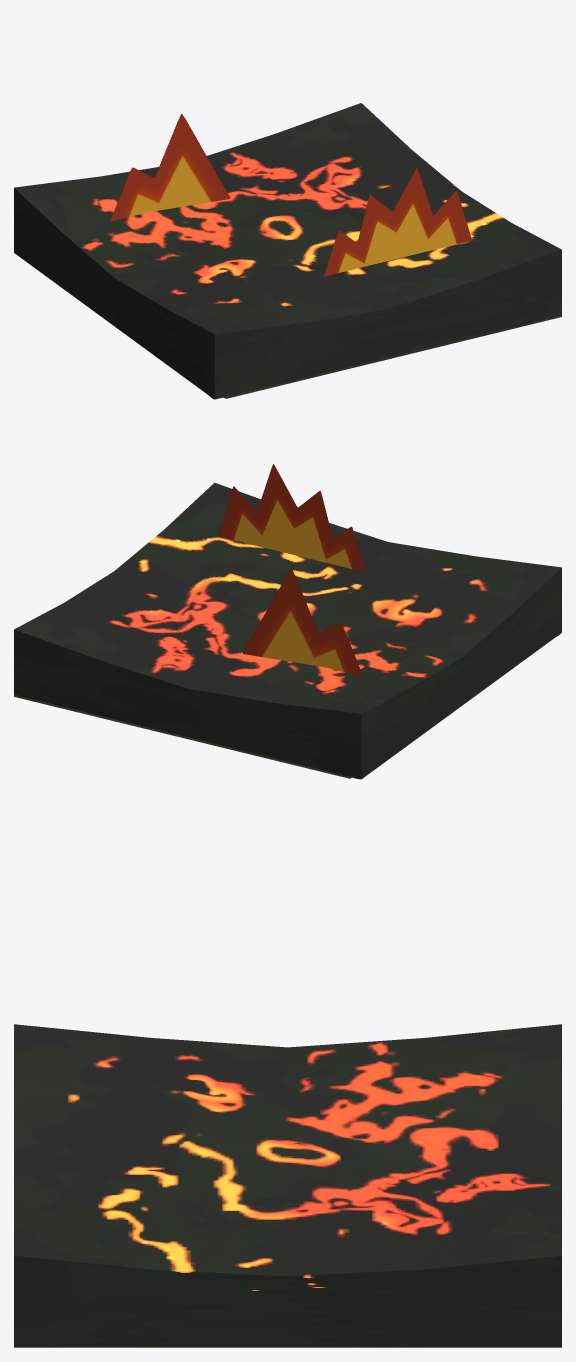
File: 3FireTile2.fbx
3 renders of one model, top to bottom at view 1: azimuth 30°, elevation 25°; view 2: azimuth 150°, elevation 25°; view 3: azimuth 270°, elevation 25°, orthographic. The views are drawn at different scales.
Visible parts, largest first — view 1: 3FireTile2, 3BurningFire.001, 1BurningFire.010; view 2: 3FireTile2, 3BurningFire.001, 1BurningFire.010; view 3: 3FireTile2.
Boxes of the visible parts, x1=… form: 3FireTile2: x1=14, y1=103, x2=561, y2=399; 3BurningFire.001: x1=324, y1=168, x2=471, y2=276; 1BurningFire.010: x1=110, y1=114, x2=230, y2=221; 3FireTile2: x1=14, y1=482, x2=561, y2=779; 3BurningFire.001: x1=218, y1=464, x2=366, y2=572; 1BurningFire.010: x1=243, y1=569, x2=362, y2=676; 3FireTile2: x1=14, y1=1024, x2=561, y2=1347.
Size of the model in its own units: 200 by 127 by 200.
3 materials, 3 textured.
